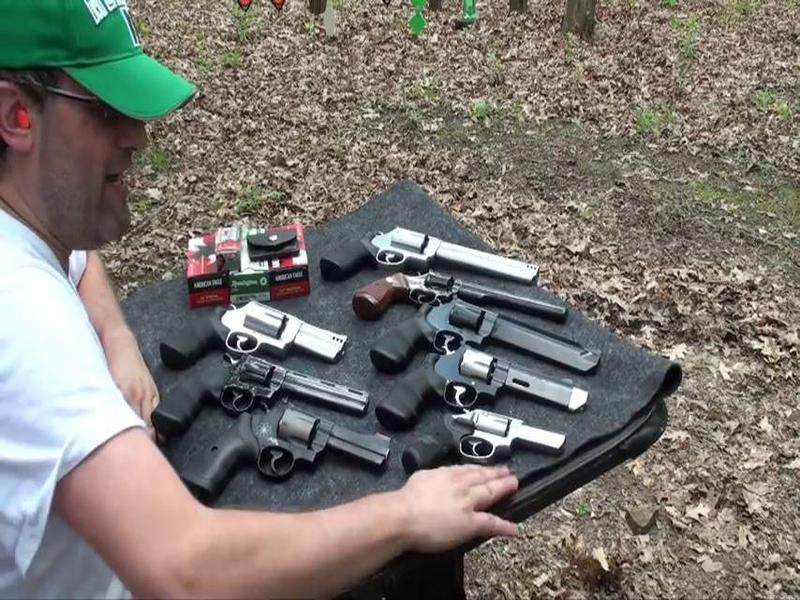Revolver: (364, 296, 603, 380)
